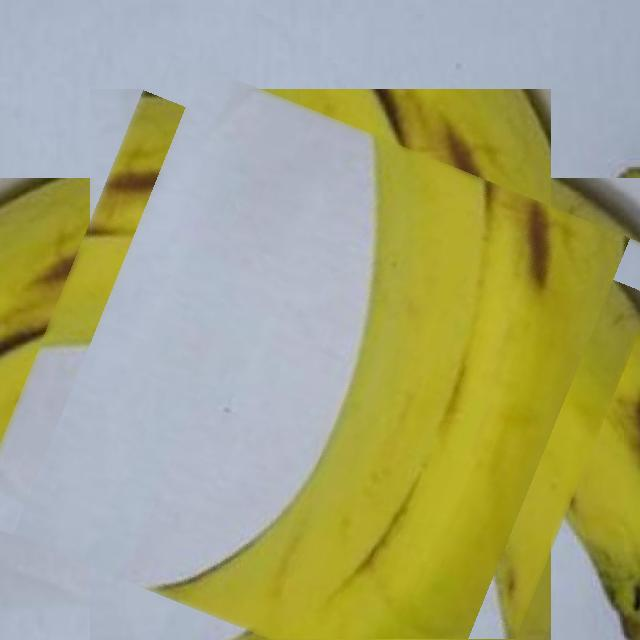Madura: (6, 90, 632, 640)
